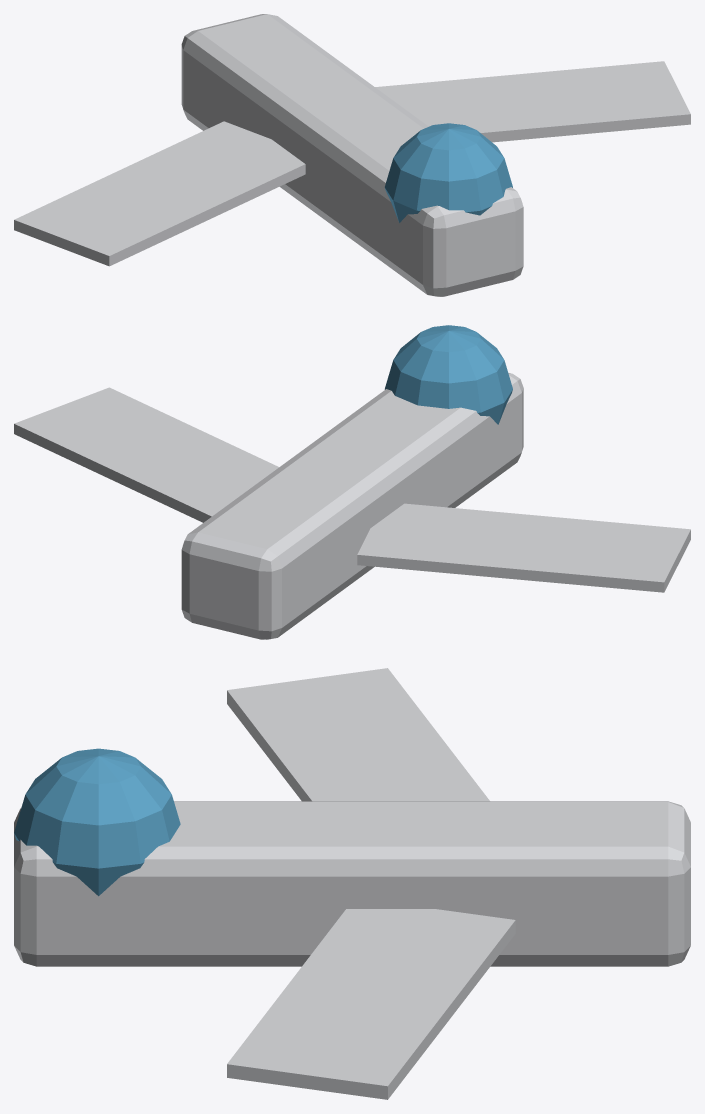
File: s3-spacecraft.glb
The picture shows the model from 3 angles, top to bottom: view 1: azimuth 30°, elevation 25°; view 2: azimuth 150°, elevation 25°; view 3: azimuth 270°, elevation 25°; orthographic projection. The views are drawn at different scales.
Parts seen in each view (by area): view 1: Fuselage, Wing_L, Wing_R, Cockpit; view 2: Fuselage, Wing_L, Wing_R, Cockpit; view 3: Fuselage, Wing_R, Wing_L, Cockpit.
Part boxes in pixels (x1,y1,x2,y2): Fuselage: [181, 14, 523, 296]; Wing_L: [14, 121, 305, 266]; Wing_R: [375, 61, 690, 142]; Cockpit: [384, 123, 512, 222]; Fuselage: [181, 373, 523, 639]; Wing_L: [357, 503, 690, 592]; Wing_R: [14, 387, 278, 522]; Cockpit: [384, 325, 512, 424]; Fuselage: [14, 801, 690, 966]; Wing_R: [227, 909, 515, 1099]; Wing_L: [227, 668, 489, 801]; Cockpit: [14, 748, 180, 896].
Size of the model in its own units: 5.26 by 1.1 by 3.6.
